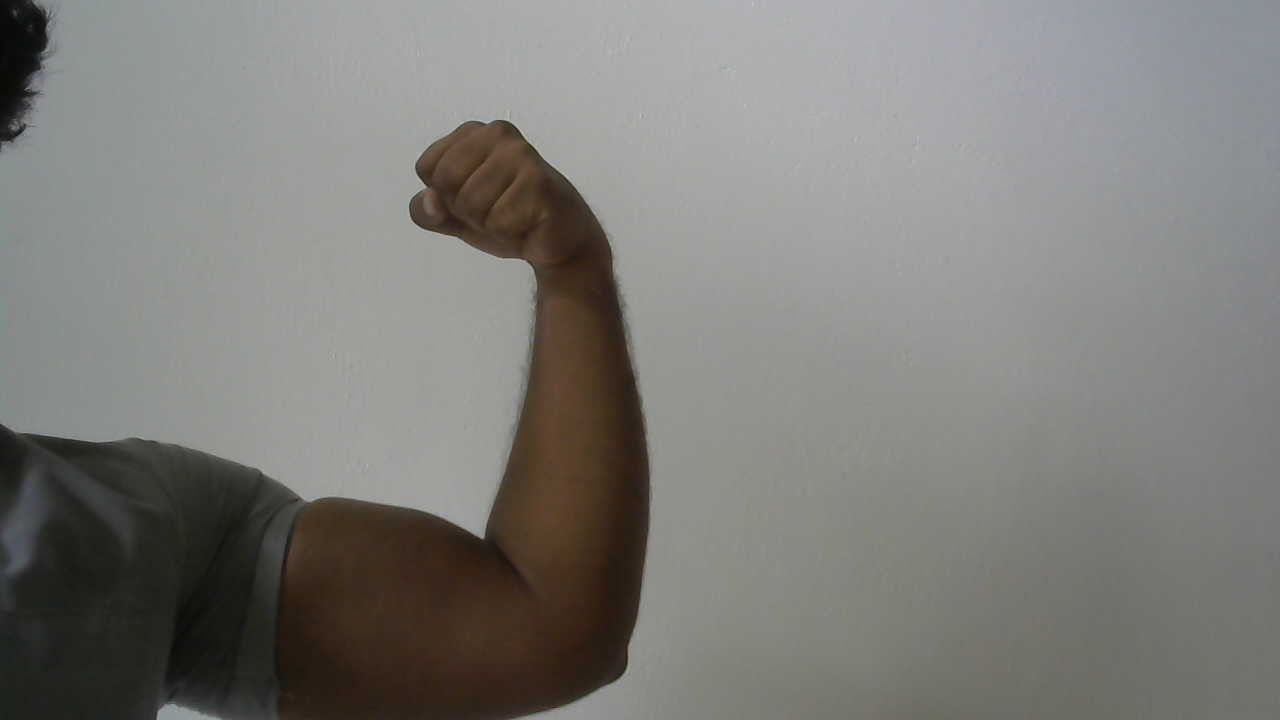yes: (396, 104, 631, 319)
